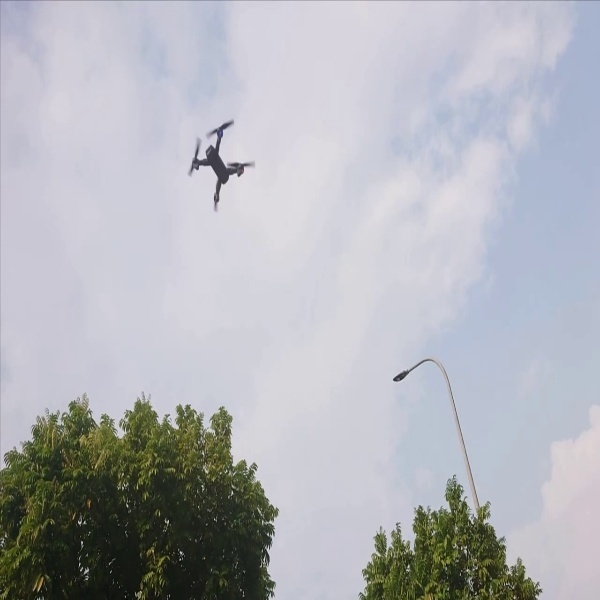drone: (182, 114, 261, 213)
